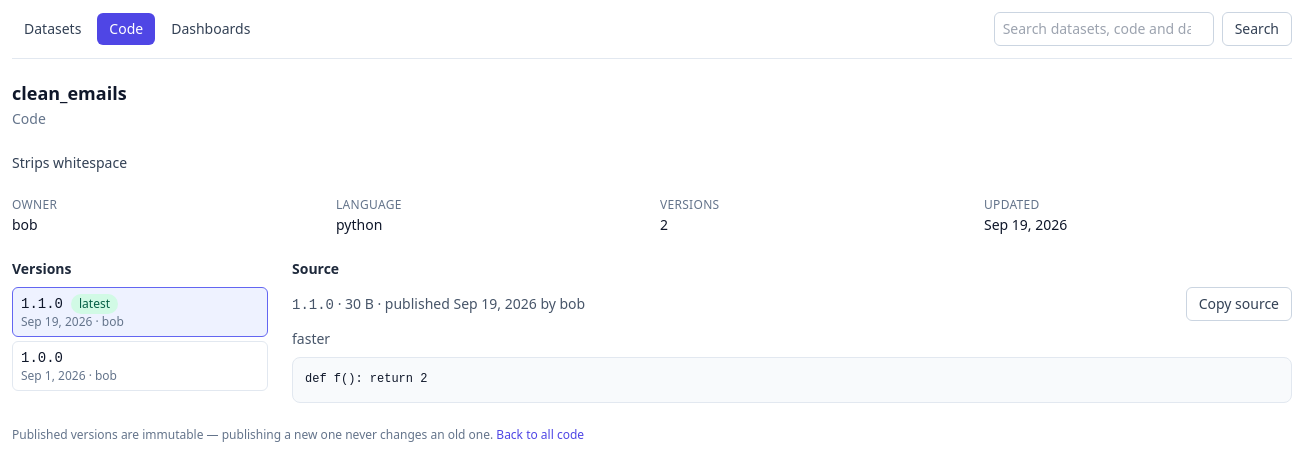
it: code › shows the latest version's source and the history, and can pin an older one by URL
The image size is (1304, 459).
Expected: the text named "Source of version 1.1.0" reads "def f(): return 2", [305,372,427,386]
Expected: the text "latest" is shown, [71,294,118,314]
Click the link "1.0.0 Sep 1, 2026 · bob": x=140, y=366 [12,341,268,391]
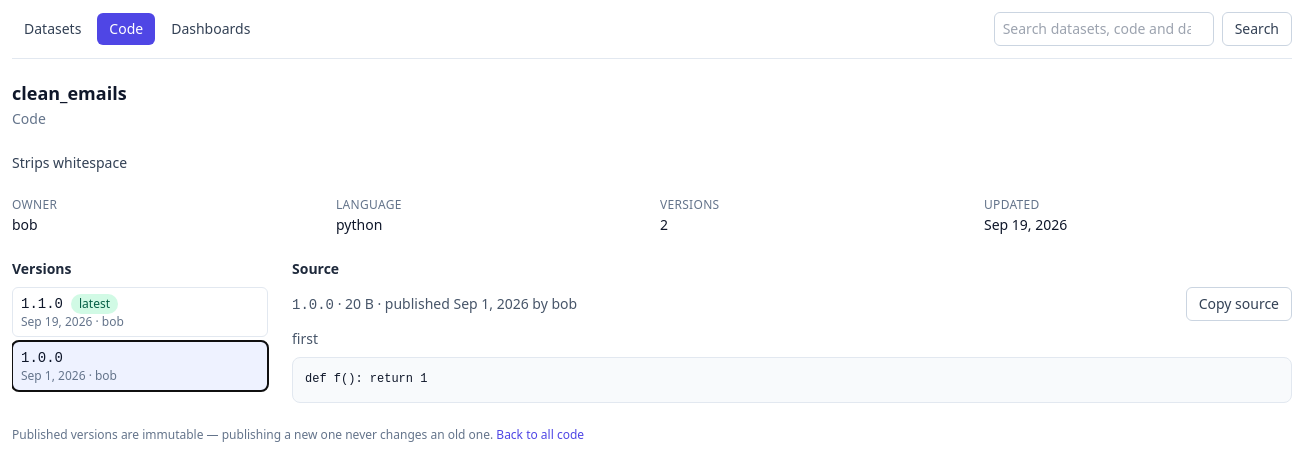
Now the text named "Source of version 1.0.0" reads "def f(): return 1", box [305,372,427,386]
